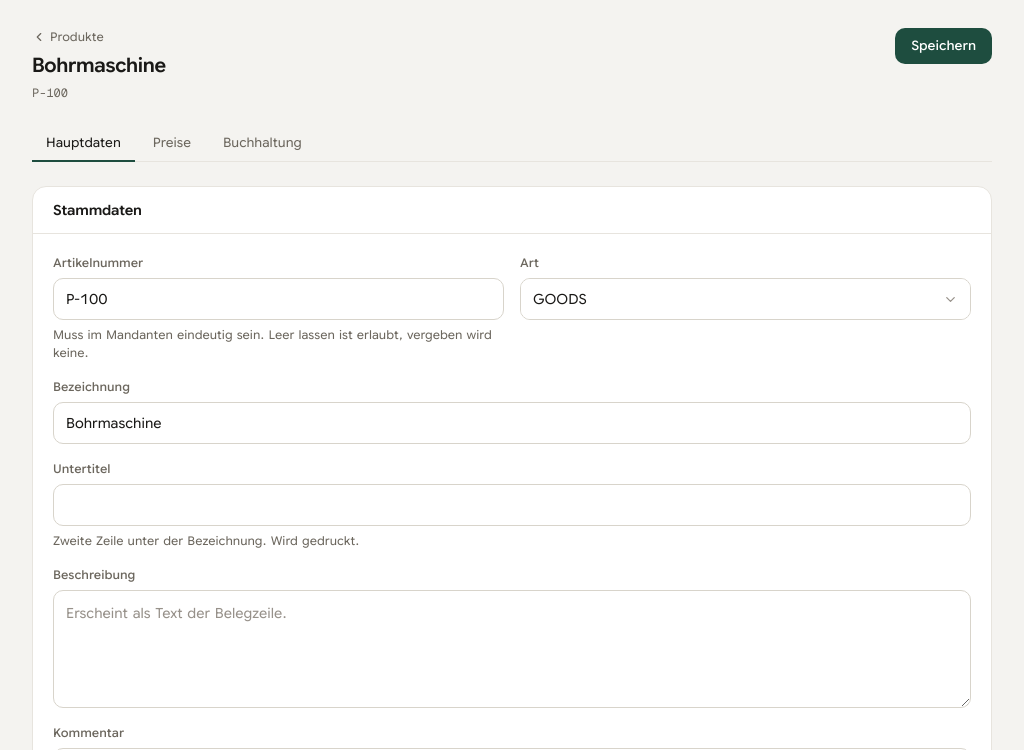
Test: ProductPage › productPageShowsTheRevenueAccountWithRightAndModuleTest
What coordinates should you click on to do the following:
click the tab "Buchhaltung"
I would click on:
 (262, 144)
Its box is [209,126,316,162].
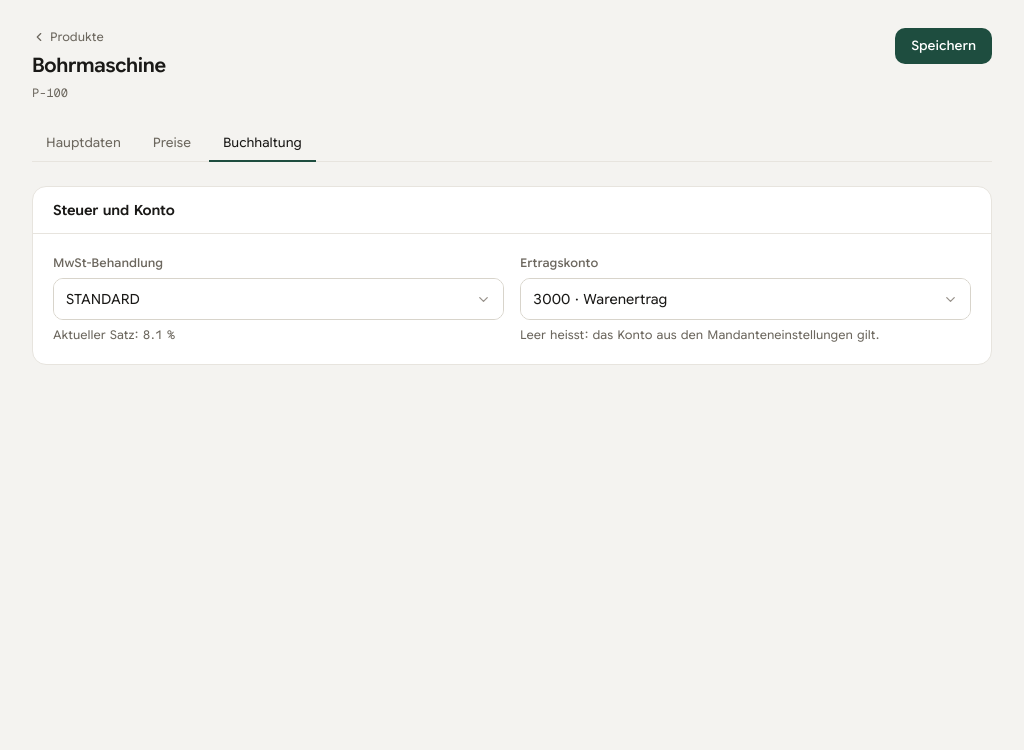
expect the text "Ertragskonto" is shown: met, box [520,255,598,270]
